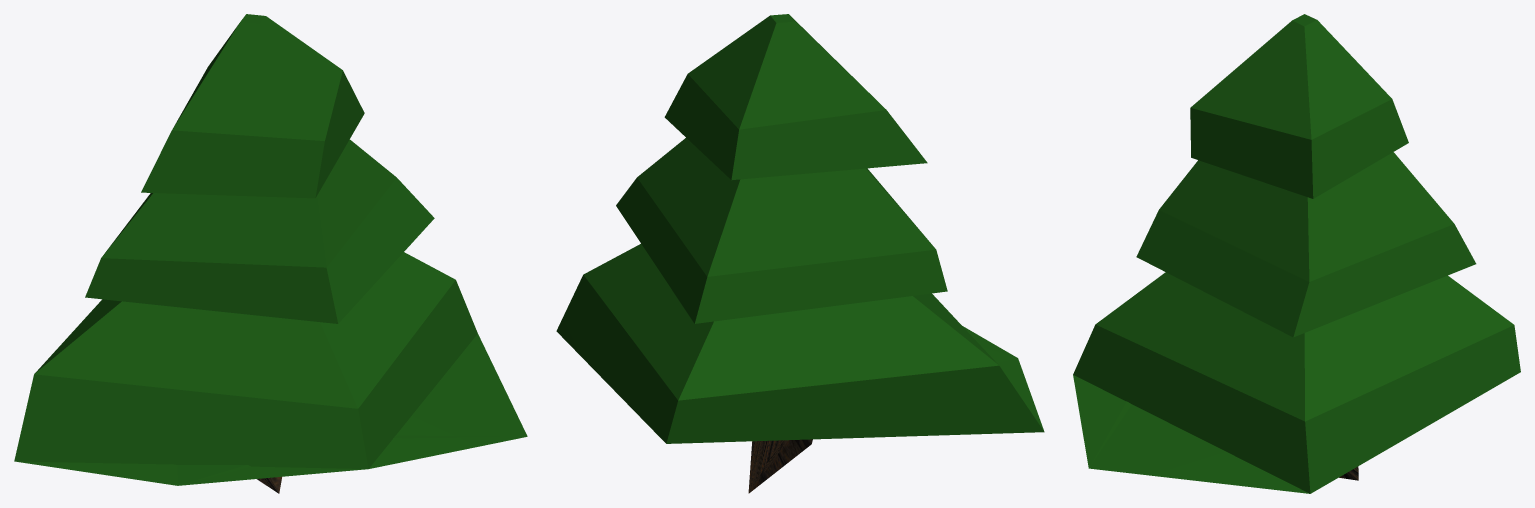
The model's file is tree_low.obj.
The picture shows the model from 3 angles, left to right: view 1: azimuth 30°, elevation 25°; view 2: azimuth 150°, elevation 25°; view 3: azimuth 270°, elevation 25°; orthographic projection. The views are drawn at different scales.
Visible parts, largest first — view 1: Cylinder_Cylinder.001; view 2: Cylinder_Cylinder.001; view 3: Cylinder_Cylinder.001.
Part boxes in pixels (x1,y1,x2,y2): Cylinder_Cylinder.001: (14,14,527,493); Cylinder_Cylinder.001: (556,14,1044,493); Cylinder_Cylinder.001: (1073,14,1520,493).
Bounding box in the file's own units: 10.78 × 10 × 8.88.
Materials: 2 (2 with a texture image).
